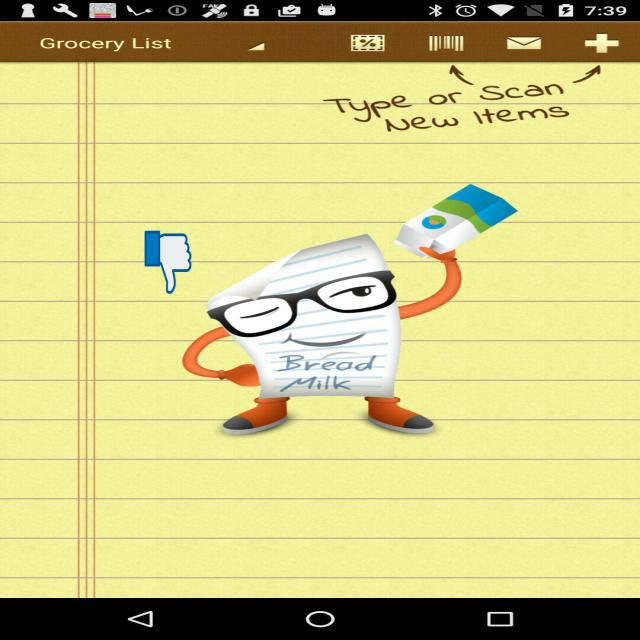obstruction: (144, 230, 192, 296)
